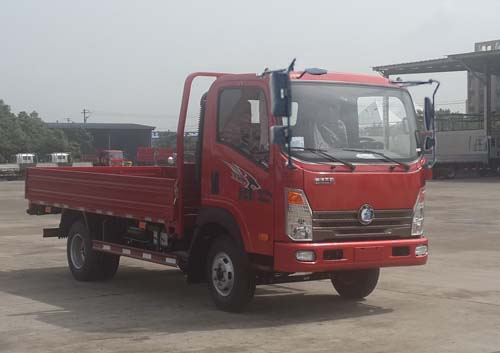smalltruck: (18, 57, 450, 313)
